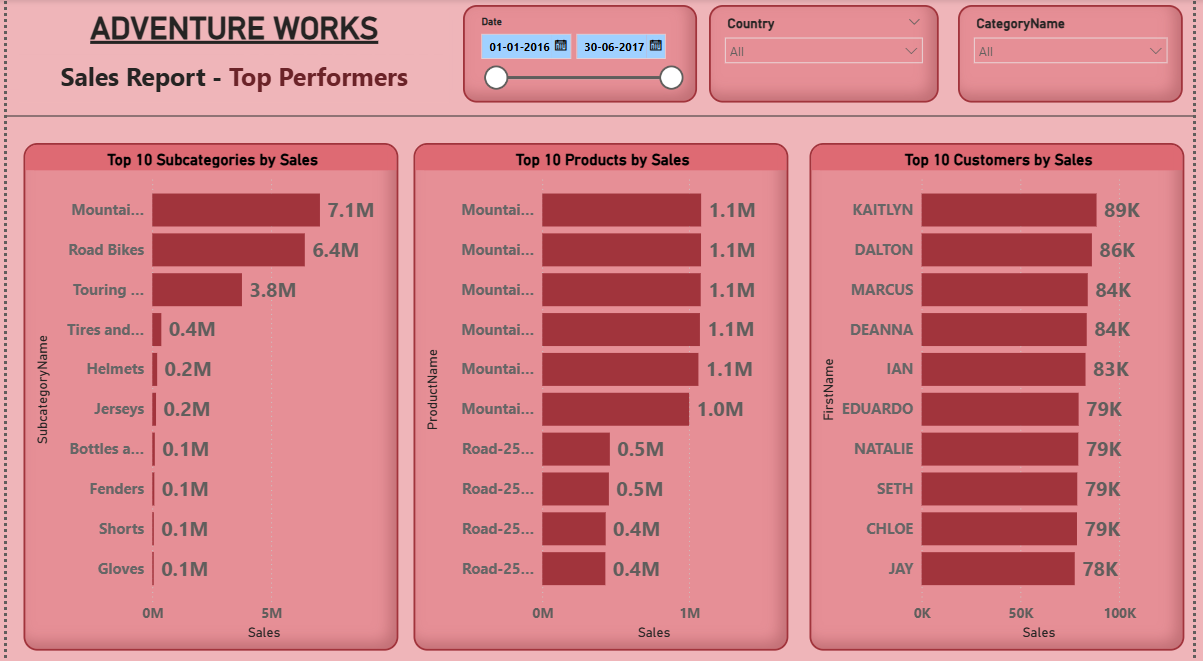

This screenshot's page, from the dashboard's own definition file:
{"tool":"powerbi","page":{"name":"Page 1","canvas":[1280,720],"ordinal":1},"visuals":[{"type":"slicer","fields":{"Values":["AW_Date.Date"]},"box":[492.2,6.5,252.6,105.2],"z":0},{"type":"slicer","fields":{"Values":["AW_Territory.Country"]},"box":[757.8,6.5,247.7,105.2],"z":1000},{"type":"slicer","fields":{"Values":["AW_Product_Category.CategoryName"]},"box":[1026.6,6.5,242.9,105.2],"z":2000},{"type":"textbox","box":[0,22.7,480.9,74.5],"z":3000},{"type":"shape","box":[0,111.7,1280.8,29.1],"z":4000},{"type":"clusteredBarChart","title":"Top 10 Subcategories by Sales","fields":{"Category":["AW_Product_Subcategory.SubcategoryName"],"Y":["AW_Sales.Sales"]},"box":[17,155,404.4,548],"z":5000},{"type":"clusteredBarChart","title":"Top 10 Products by Sales","fields":{"Category":["AW_Products.ProductName"],"Y":["AW_Sales.Sales"]},"box":[438.4,155,404.4,548],"z":6000},{"type":"clusteredBarChart","title":"Top 10 Customers by Sales ","fields":{"Category":["AW_Customers.FirstName"],"Y":["AW_Sales.Sales"]},"box":[865.5,155,404.4,548],"z":7000},{"type":"textbox","box":[13,59.9,464.7,51.8],"z":7001},{"type":"textbox","box":[13,6.5,464.7,48.6],"z":7002}]}

Visuals, with their boxes in screenshot pixels (x1, y1, x2, y2), scaled from the page's 1280x720 canvas onto the 1203x661 screenshot:
slicer - AW_Date.Date: crop(463, 6, 700, 103)
slicer - AW_Territory.Country: crop(712, 6, 945, 103)
slicer - AW_Product_Category.CategoryName: crop(965, 6, 1193, 103)
textbox: crop(0, 21, 452, 89)
shape: crop(0, 103, 1202, 129)
"Top 10 Subcategories by Sales" clusteredBarChart: crop(16, 142, 396, 645)
"Top 10 Products by Sales" clusteredBarChart: crop(412, 142, 792, 645)
"Top 10 Customers by Sales " clusteredBarChart: crop(813, 142, 1194, 645)
textbox: crop(12, 55, 449, 103)
textbox: crop(12, 6, 449, 51)
